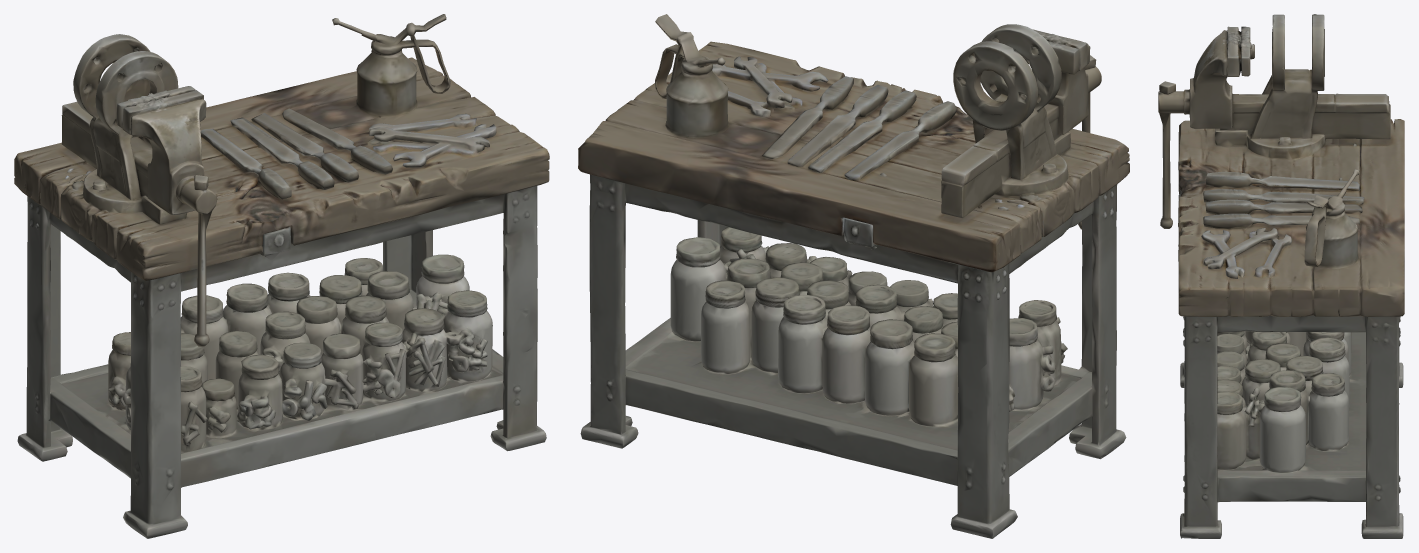
The model's file is silo81_workbench.glb.
The picture shows the model from 3 angles, left to right: view 1: azimuth 30°, elevation 25°; view 2: azimuth 150°, elevation 25°; view 3: azimuth 270°, elevation 25°; orthographic projection. The views are drawn at different scales.
Visible parts, largest first — view 1: tripo_node_3094d673-9d49-4a21-9b9d-2b41c5b9f127; view 2: tripo_node_3094d673-9d49-4a21-9b9d-2b41c5b9f127; view 3: tripo_node_3094d673-9d49-4a21-9b9d-2b41c5b9f127.
Boxes of the visible parts, x1,y1,x2,y2 form: tripo_node_3094d673-9d49-4a21-9b9d-2b41c5b9f127: (14,14,549,538); tripo_node_3094d673-9d49-4a21-9b9d-2b41c5b9f127: (578,14,1129,538); tripo_node_3094d673-9d49-4a21-9b9d-2b41c5b9f127: (1158,14,1404,538).
Size of the model in its own units: 0.9635 by 0.9799 by 0.587.
Materials: 1 (1 with a texture image).
